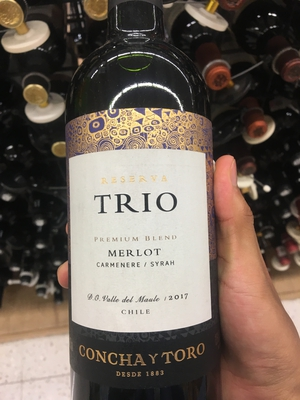trio merlot: (61, 37, 231, 389)
